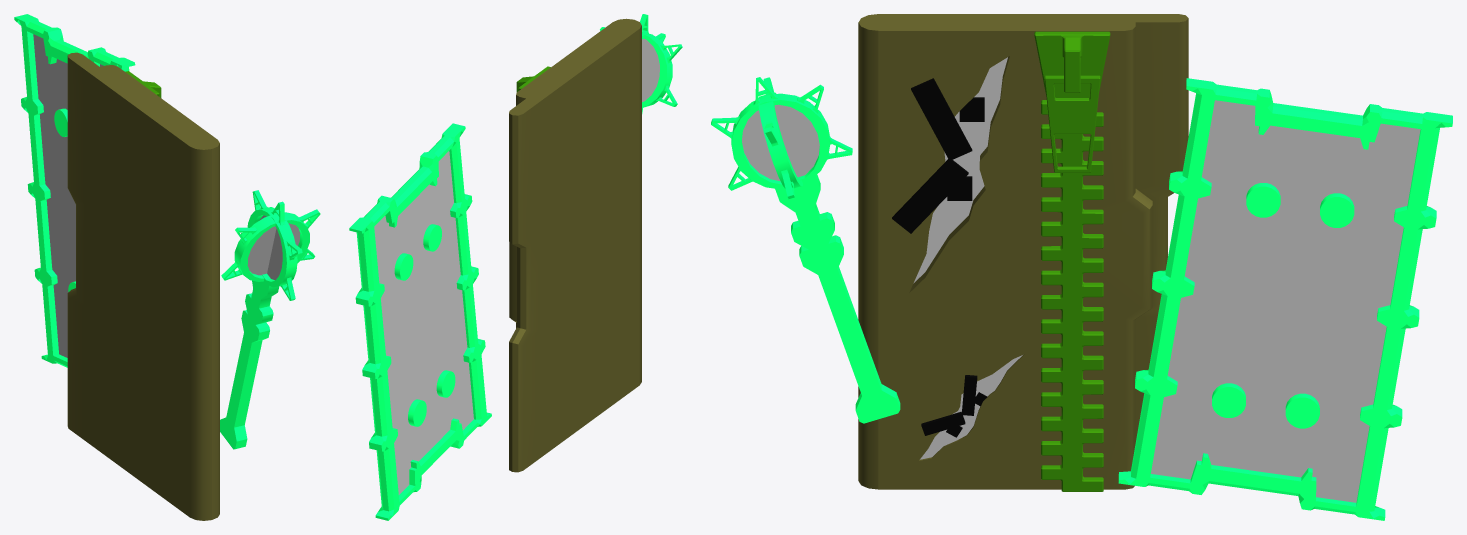
File: Lvl 2 Zip.fbx
3 views of the same model, side by side, from view 1: azimuth 30°, elevation 25°; view 2: azimuth 150°, elevation 25°; view 3: azimuth 270°, elevation 25° (orthographic). The views are drawn at different scales.
Parts seen in each view (by area): view 1: Zip_Troop_; view 2: Zip_Troop_; view 3: Zip_Troop_.
Part boxes in pixels (x1,y1,x2,y2): Zip_Troop_: [14, 14, 320, 520]; Zip_Troop_: [349, 14, 682, 520]; Zip_Troop_: [711, 14, 1452, 520].
Size of the model in its own units: 0.4761 by 1.87 by 2.7.
